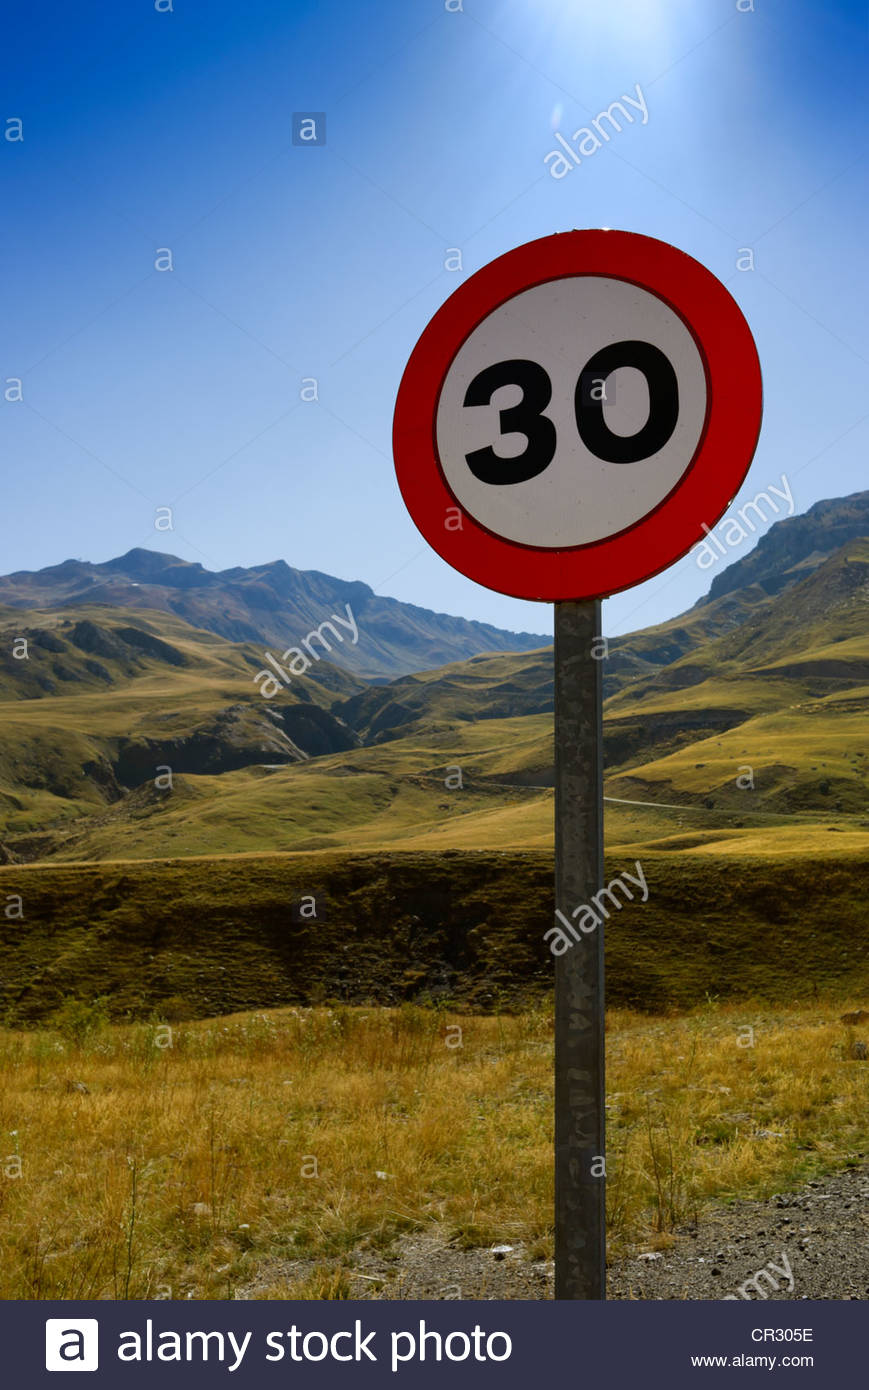speed_limit_30: (395, 230, 764, 604)
